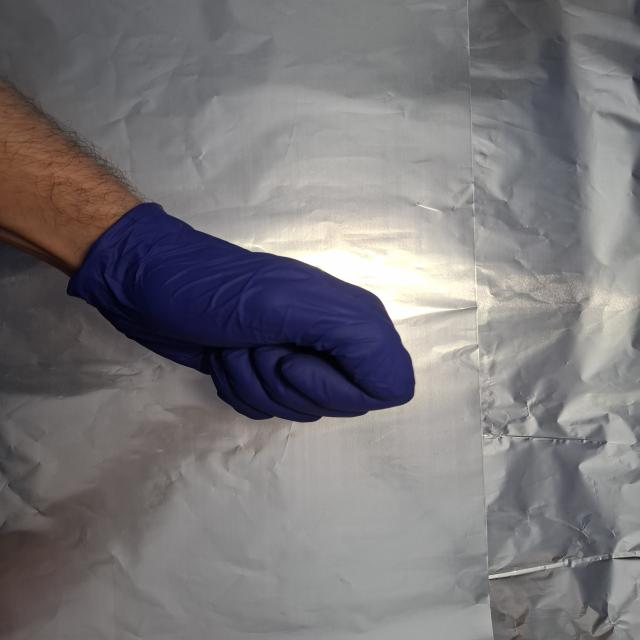glove_on: (74, 201, 418, 425)
